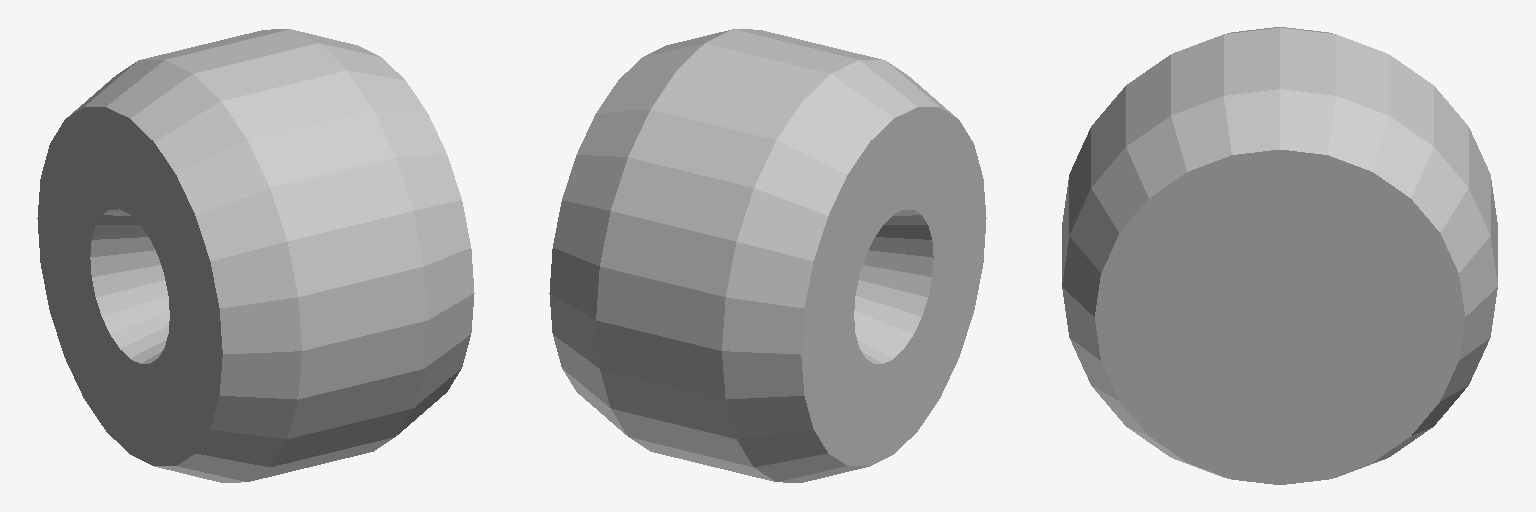
File: wheel-racing_alt.obj
3 renders of one model, left to right at view 1: azimuth 30°, elevation 25°; view 2: azimuth 150°, elevation 25°; view 3: azimuth 270°, elevation 25°, orthographic.
Visible parts, largest first — view 1: wheel-racing; view 2: wheel-racing; view 3: wheel-racing.
Part boxes in pixels (x1,y1,x2,y2): wheel-racing: (37,29,474,482); wheel-racing: (549,29,986,482); wheel-racing: (1062,27,1497,484).
Size of the model in its own units: 0.4 by 0.6 by 0.6.